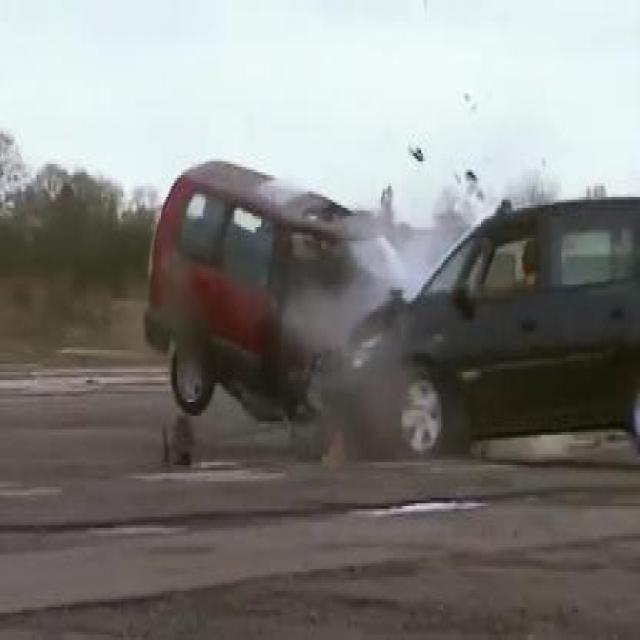accident: (143, 134, 640, 460)
